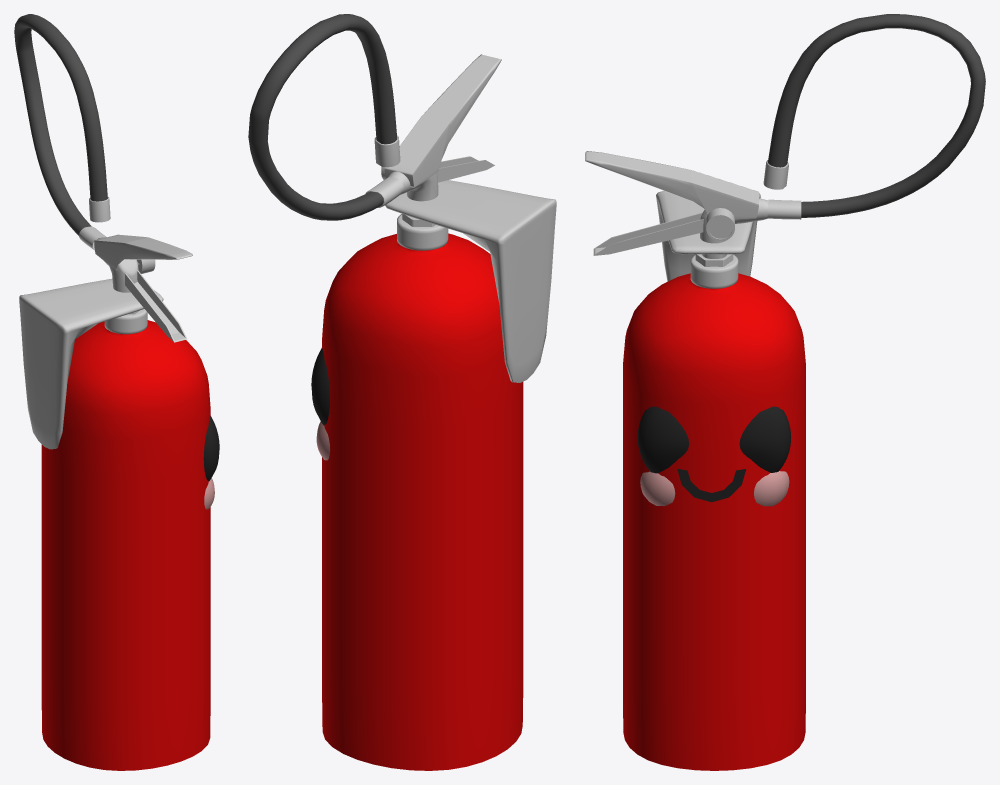
The model's file is FireExtinguisher1.fbx.
The picture shows the model from 3 angles, left to right: view 1: azimuth 30°, elevation 25°; view 2: azimuth 150°, elevation 25°; view 3: azimuth 270°, elevation 25°; orthographic projection. The views are drawn at different scales.
Parts seen in each view (by area): view 1: FireExtinguisher1; view 2: FireExtinguisher1; view 3: FireExtinguisher1.
Part boxes in pixels (box(x1,y1,x2,y2)): FireExtinguisher1: box(14, 14, 219, 770); FireExtinguisher1: box(248, 14, 556, 770); FireExtinguisher1: box(585, 14, 985, 770).
Size of the model in its own units: 1.57 by 6.04 by 3.05.
